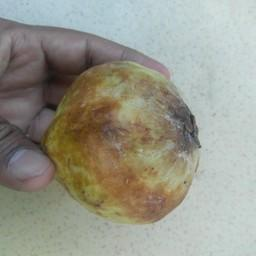Bad_guava: (43, 58, 201, 226)
